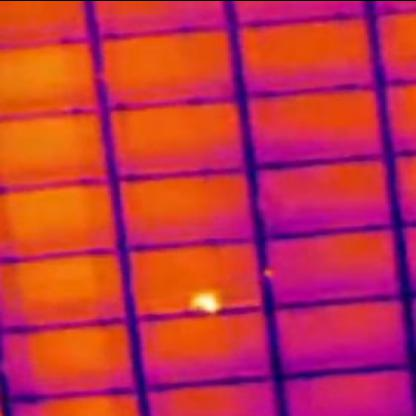Defects: (196, 294, 216, 312)
